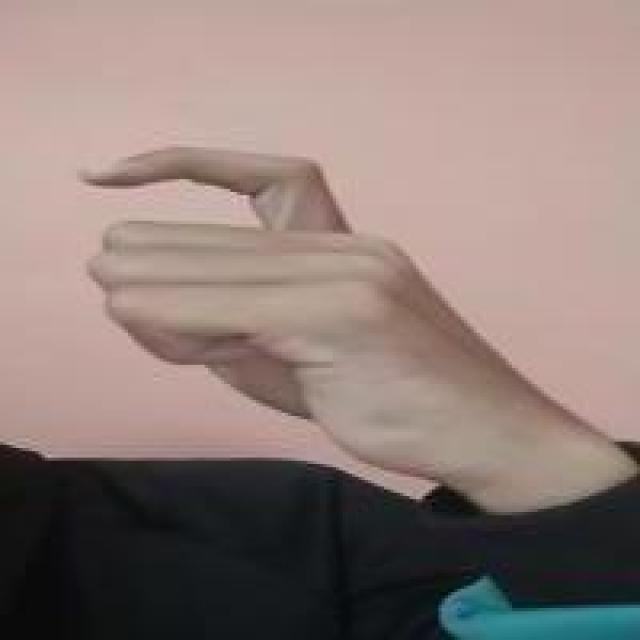X: (66, 142, 526, 488)
